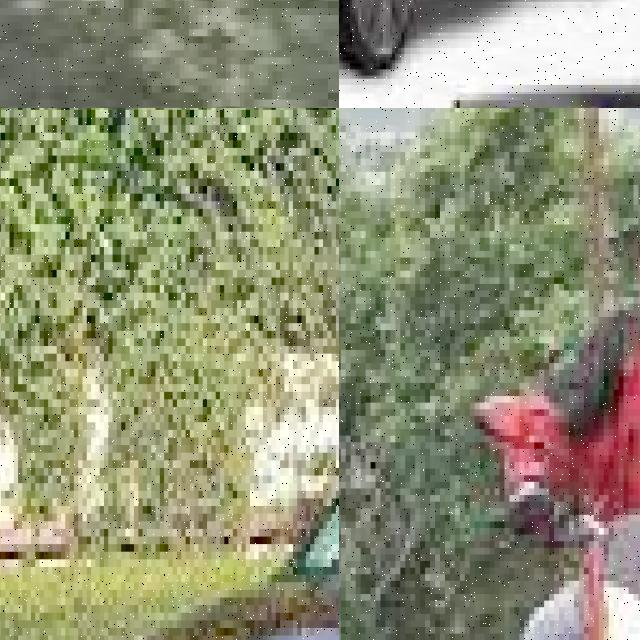bike: (519, 475, 640, 640)
car: (18, 323, 339, 640), (339, 0, 640, 88), (392, 54, 640, 108)
